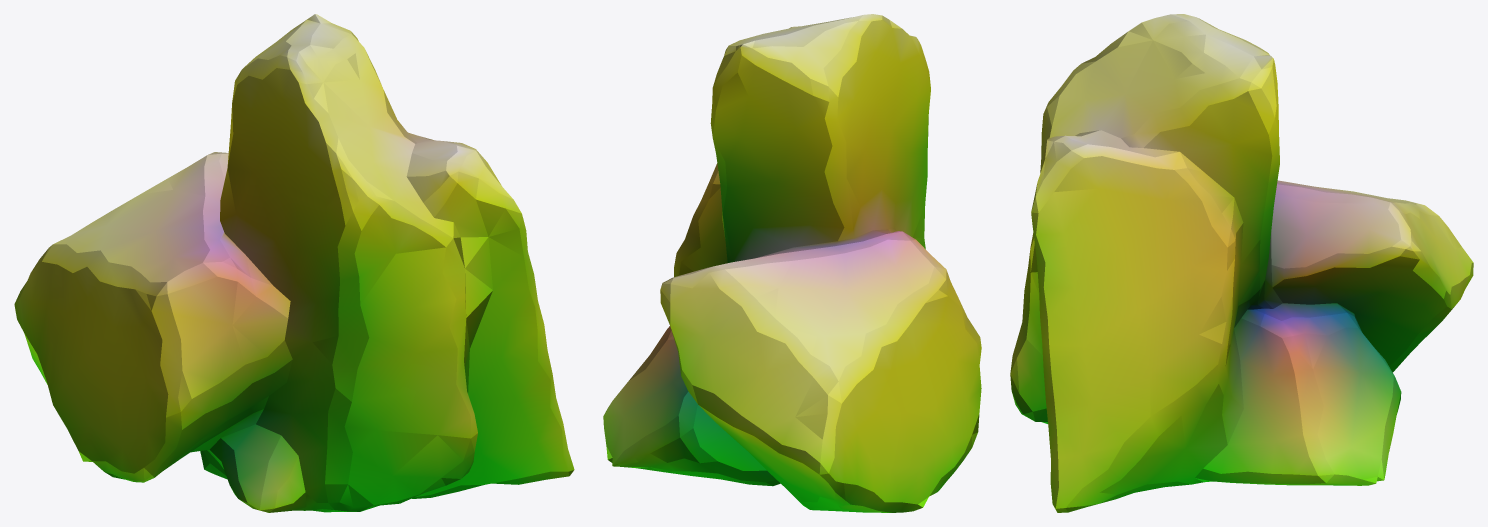
File: rock_group_01_LOD0.fbx
3 renders of one model, left to right at view 1: azimuth 30°, elevation 25°; view 2: azimuth 150°, elevation 25°; view 3: azimuth 270°, elevation 25°, orthographic. The views are drawn at different scales.
Parts seen in each view (by area): view 1: LOD0; view 2: LOD0; view 3: LOD0.
Part boxes in pixels (x1,y1,x2,y2): LOD0: (14,14,574,512); LOD0: (603,14,981,512); LOD0: (1010,14,1473,512).
Bounding box in the file's own units: 37840 × 43258 × 45253.
